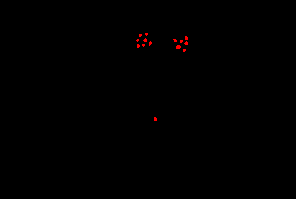Target: (176, 45, 181, 49), (143, 38, 147, 42), (184, 41, 188, 45), (149, 41, 152, 46), (185, 36, 188, 40), (173, 39, 177, 42), (137, 44, 140, 48), (154, 117, 157, 121), (145, 33, 148, 36), (139, 34, 142, 37), (136, 39, 139, 42), (180, 40, 183, 43), (142, 44, 145, 47), (183, 49, 186, 52)
